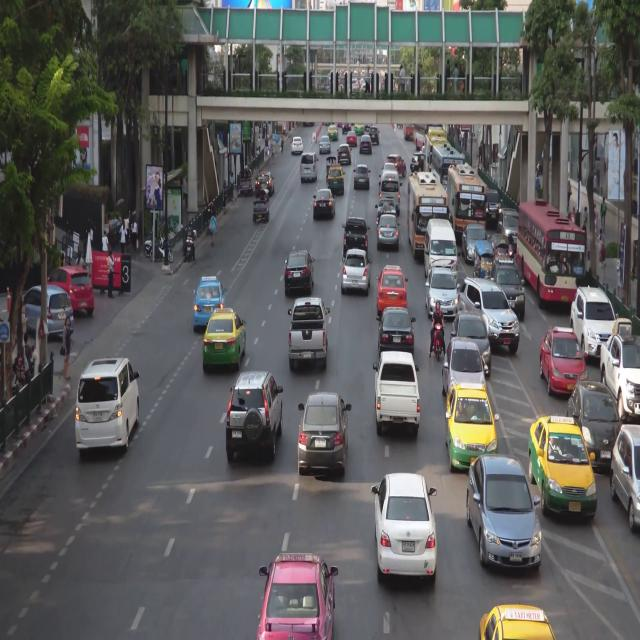bus: (519, 203, 584, 306), (408, 174, 448, 260), (448, 169, 485, 243), (433, 145, 465, 216), (427, 130, 448, 183), (415, 124, 443, 153), (404, 124, 414, 138)
car: (469, 453, 541, 571), (375, 470, 436, 583), (79, 362, 138, 447), (459, 277, 521, 352), (568, 377, 619, 464), (230, 371, 280, 454), (374, 354, 420, 432), (300, 395, 346, 472), (601, 335, 640, 419), (444, 341, 487, 411), (612, 422, 640, 526), (574, 289, 617, 356), (17, 285, 69, 338), (44, 267, 94, 319), (287, 299, 327, 364), (452, 313, 489, 376), (426, 218, 457, 287), (493, 259, 525, 318), (379, 308, 412, 360), (426, 268, 458, 318), (345, 247, 370, 297), (285, 253, 314, 293), (462, 222, 490, 263), (498, 209, 519, 251), (346, 218, 368, 257), (380, 170, 399, 210), (476, 244, 494, 285), (483, 188, 501, 222), (378, 217, 399, 246), (313, 191, 336, 214), (491, 232, 508, 263), (301, 152, 318, 180), (378, 197, 397, 222), (253, 191, 269, 220), (353, 165, 371, 188), (386, 155, 407, 174), (255, 175, 275, 194), (241, 168, 253, 192), (337, 144, 350, 165), (291, 134, 303, 153), (412, 153, 424, 172), (360, 135, 372, 153), (382, 161, 396, 175), (318, 137, 330, 153), (327, 156, 337, 174), (369, 127, 379, 143), (347, 133, 356, 146), (342, 124, 352, 135)
pedestrian: (62, 315, 72, 383), (21, 334, 33, 375), (105, 249, 115, 298), (20, 303, 28, 344), (599, 241, 606, 286), (130, 216, 138, 253), (210, 212, 216, 246), (120, 220, 126, 253), (101, 229, 109, 253), (124, 216, 129, 252), (593, 203, 598, 236), (601, 197, 605, 232), (584, 205, 589, 233), (223, 179, 227, 213), (568, 179, 572, 209), (230, 171, 234, 200), (184, 178, 188, 207), (76, 252, 83, 267), (598, 229, 604, 245), (280, 134, 284, 154), (571, 206, 575, 222), (536, 173, 540, 188), (269, 137, 272, 156), (259, 134, 262, 152), (265, 138, 268, 156), (272, 144, 275, 162), (263, 126, 265, 143)
taxi: (531, 410, 601, 525), (263, 551, 334, 640), (445, 385, 497, 477), (540, 327, 588, 395), (476, 606, 556, 640), (205, 311, 245, 369), (195, 275, 224, 328), (377, 268, 407, 316), (328, 165, 344, 194), (327, 125, 339, 140), (355, 123, 364, 136)
